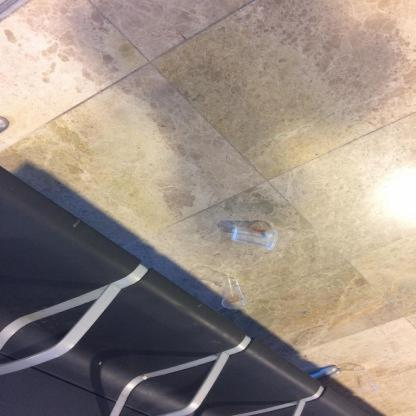Cup: (231, 228, 277, 250), (221, 278, 246, 309)
